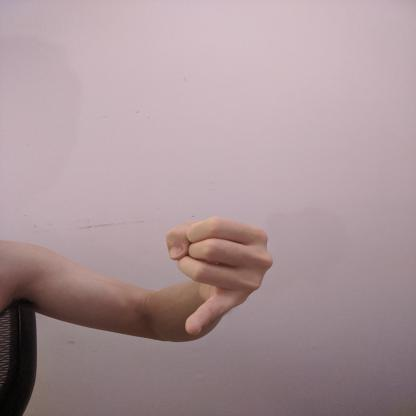J: (158, 212, 282, 341)
